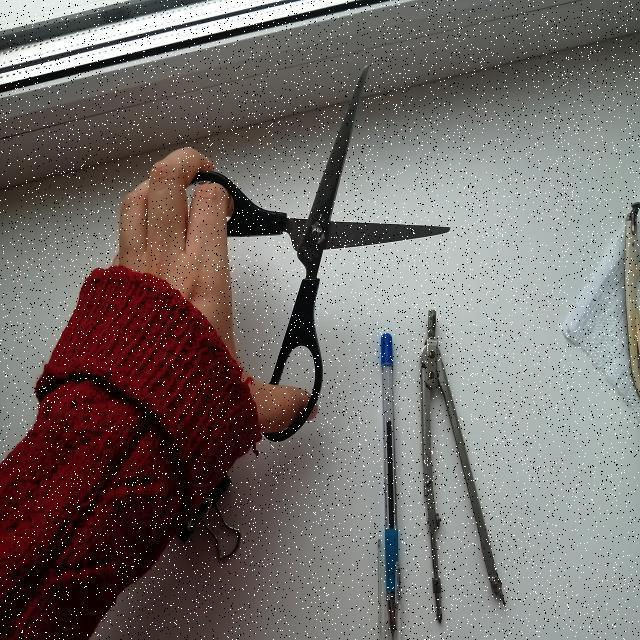scissors: (130, 52, 477, 473)
